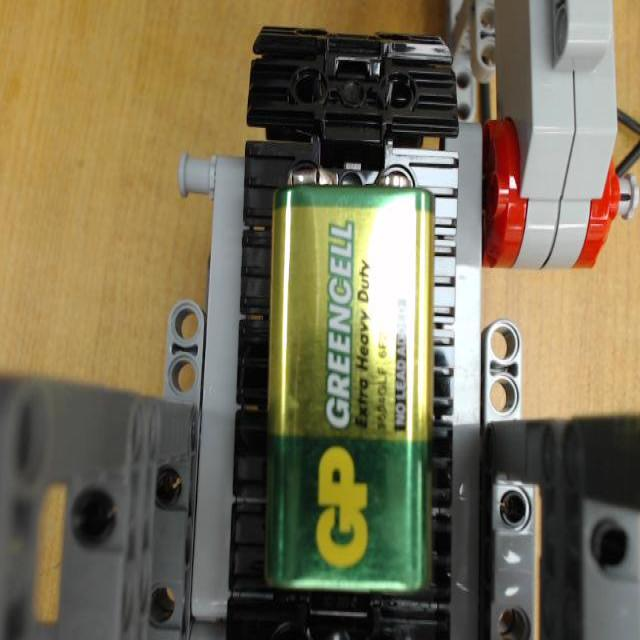9V: (276, 188, 434, 599)
